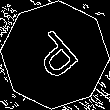P_SE: (25, 24, 85, 86)
